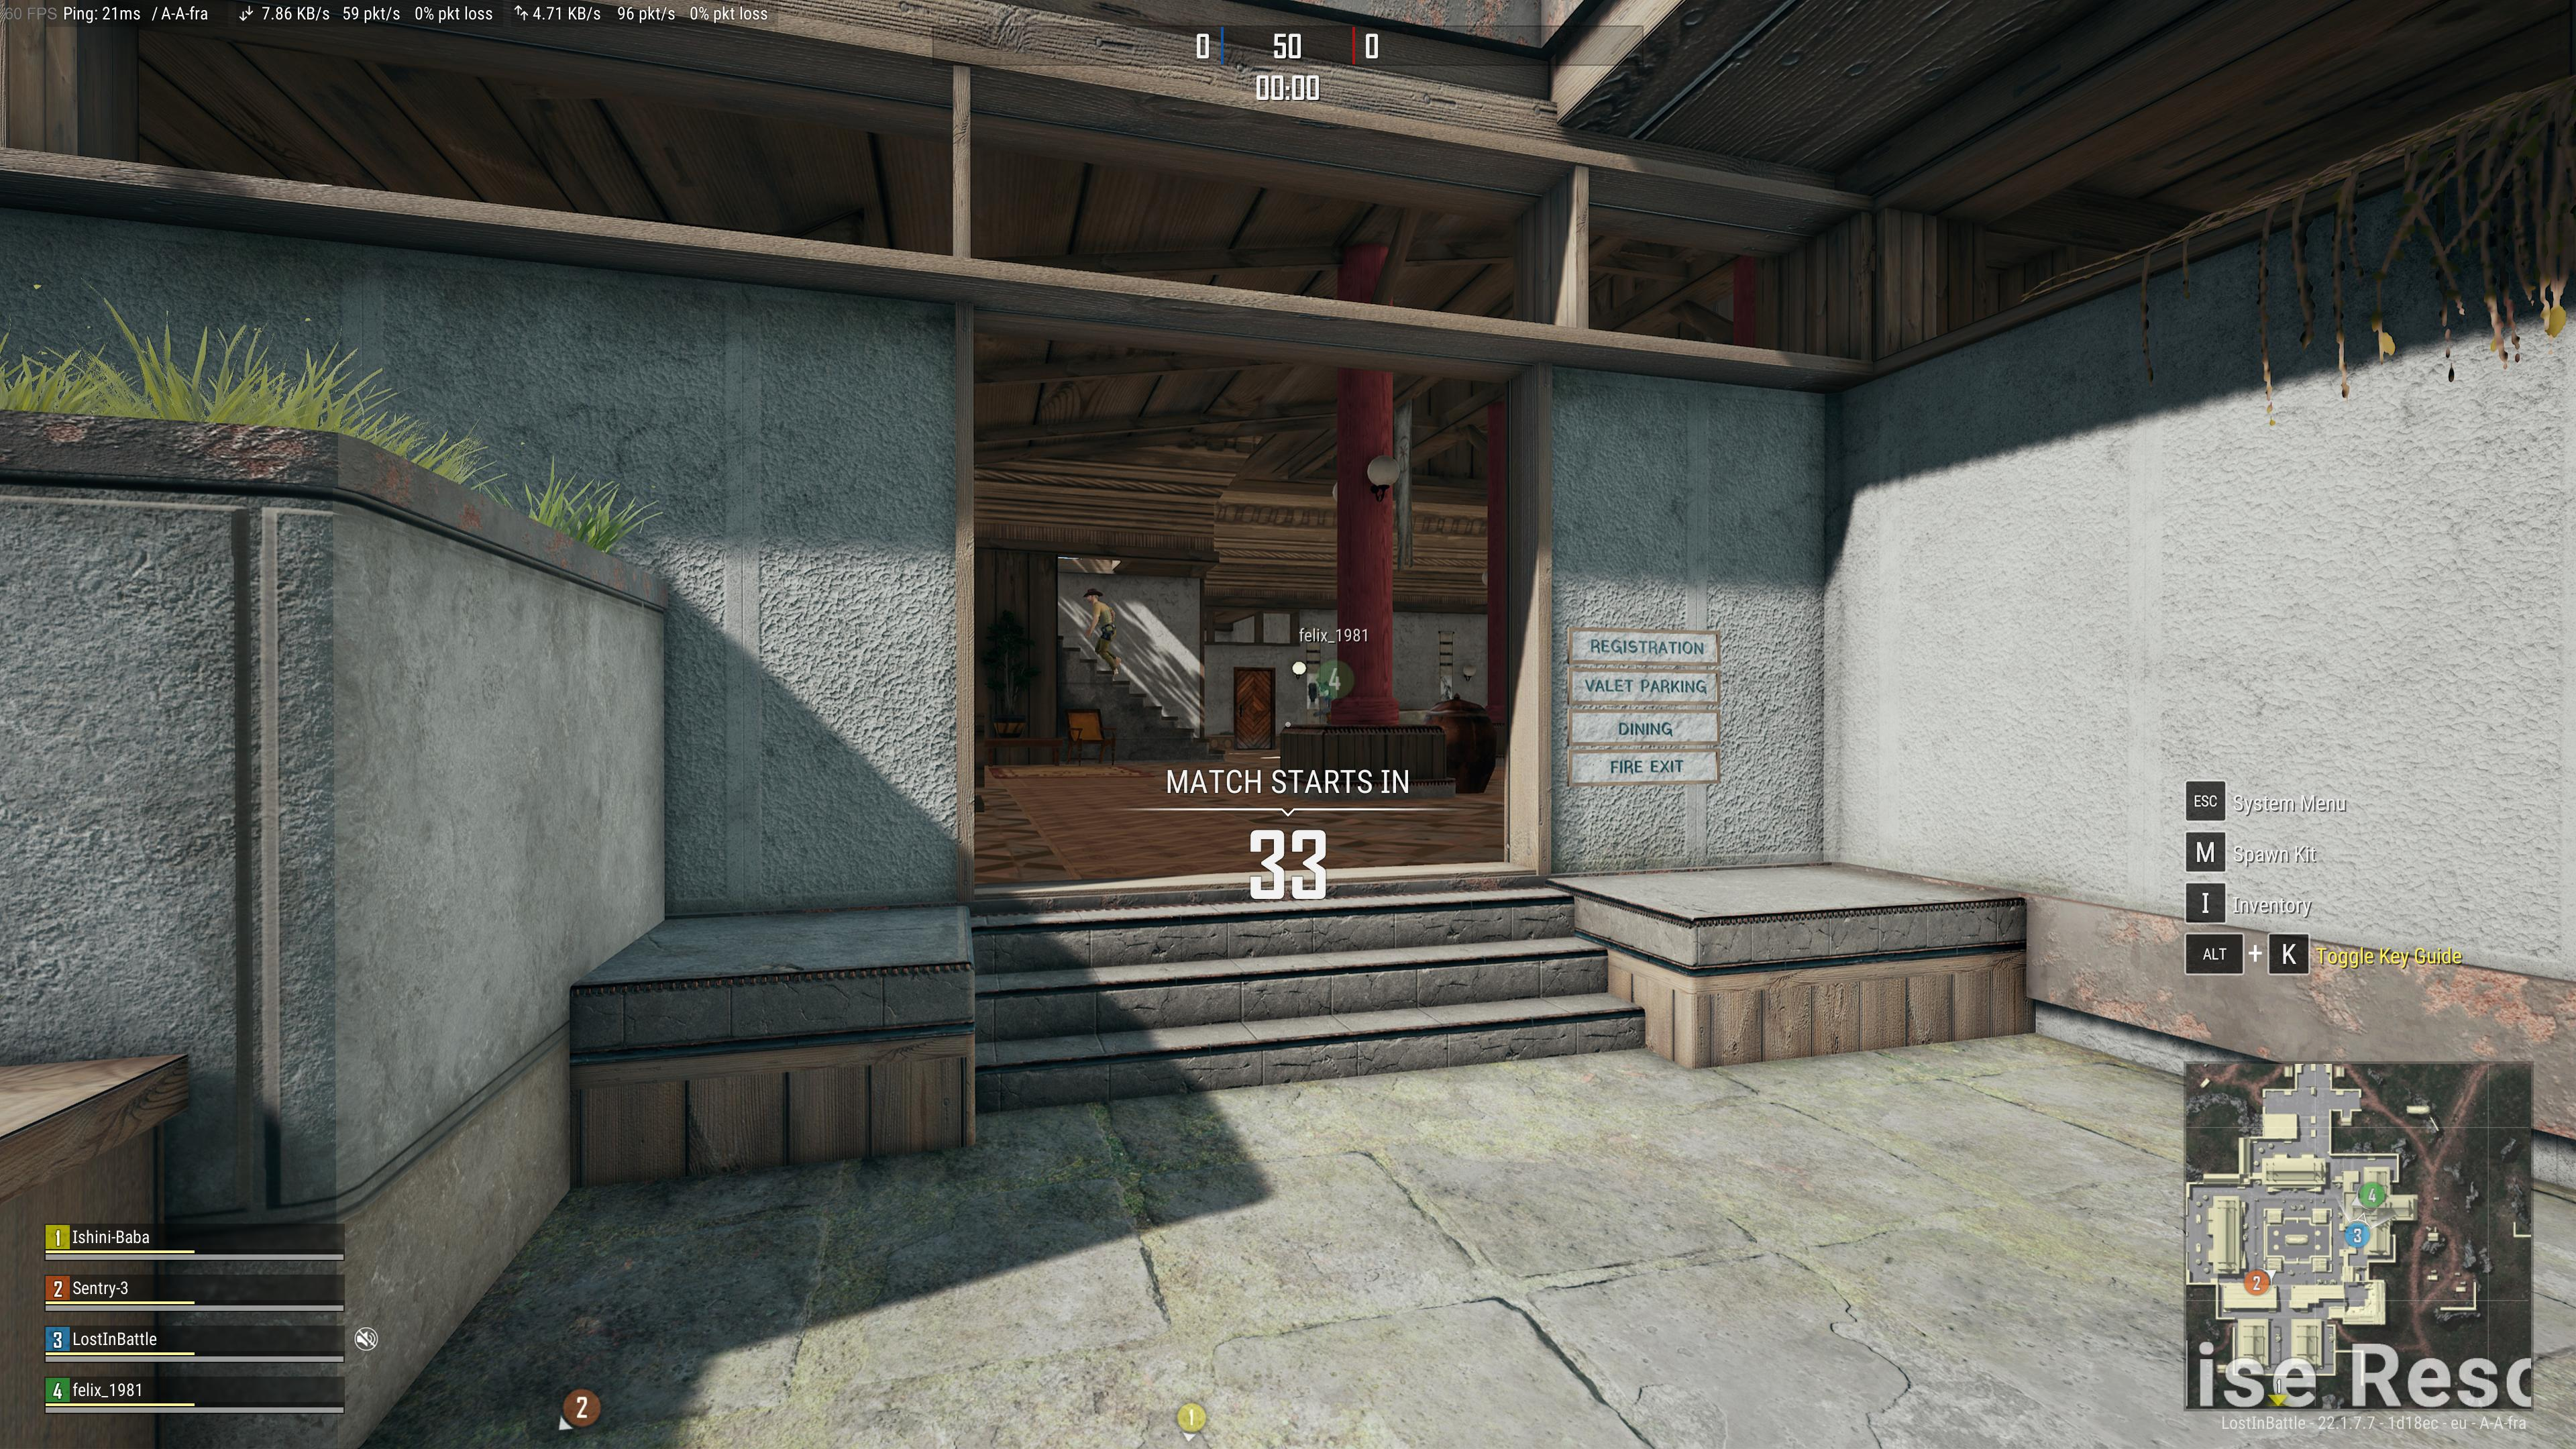enemy: (1079, 587, 1127, 676)
enemy_head: (1085, 587, 1100, 605)
friendly: (1313, 672, 1336, 722)
